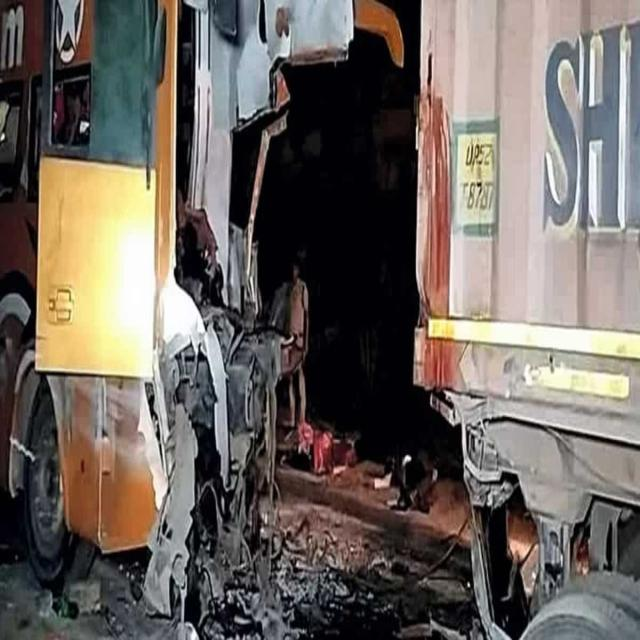accident: (0, 0, 404, 638)
